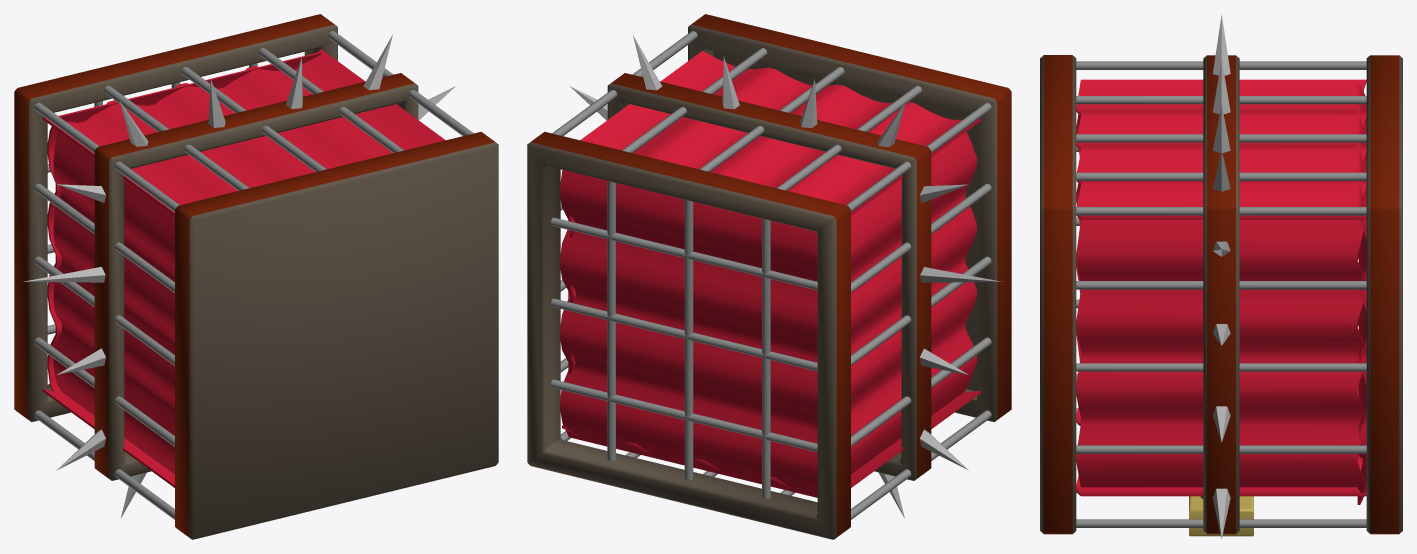
Rendered from Cage.fbx.
The picture shows the model from 3 angles, left to right: view 1: azimuth 30°, elevation 25°; view 2: azimuth 150°, elevation 25°; view 3: azimuth 270°, elevation 25°; orthographic projection.
Parts seen in each view (by area): view 1: Kletka, Shtorka_R, Shtorka_Back, Shtorka_Top, Shtorka_Front; view 2: Kletka, Shtorka_Top, Shtorka_R, Shtorka_Back, Shtorka_Front; view 3: Kletka, Shotka_L, Shtorka_Back, Shtorka_Front, Shtorka_Top.
Boxes of the visible parts, left/top/right/bottom form: Kletka: left=14, top=14, right=498, bottom=539; Shtorka_R: left=53, top=131, right=174, bottom=474; Shtorka_Back: left=42, top=49, right=445, bottom=215; Shtorka_Top: left=47, top=52, right=321, bottom=402; Shtorka_Front: left=42, top=389, right=174, bottom=487; Kletka: left=527, top=14, right=1011, bottom=539; Shtorka_Top: left=560, top=170, right=817, bottom=497; Shtorka_R: left=851, top=132, right=976, bottom=474; Shtorka_Back: left=580, top=50, right=980, bottom=215; Shtorka_Front: left=562, top=390, right=980, bottom=488; Kletka: left=1040, top=15, right=1402, bottom=538; Shotka_L: left=1076, top=220, right=1366, bottom=487; Shtorka_Back: left=1076, top=79, right=1366, bottom=219; Shtorka_Front: left=1076, top=362, right=1366, bottom=496; Shtorka_Top: left=1357, top=84, right=1366, bottom=504.
Bounding box in the file's own units: 5.61 × 5.18 × 4.
